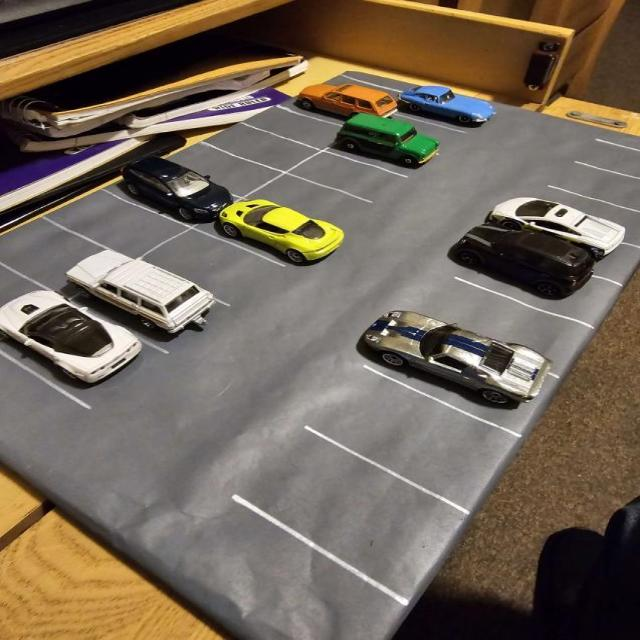Empty: (226, 425, 473, 609), (302, 363, 525, 518), (421, 276, 596, 380), (132, 225, 291, 307), (1, 214, 146, 302), (40, 188, 203, 262), (241, 171, 379, 231), (277, 147, 414, 207), (160, 139, 290, 199), (198, 122, 327, 175), (239, 105, 362, 154), (548, 160, 640, 214), (574, 137, 640, 183)
Taken: (365, 313, 559, 439), (62, 254, 236, 353), (453, 242, 625, 330), (481, 207, 639, 286), (188, 195, 337, 269), (100, 161, 250, 228), (315, 124, 443, 178), (276, 82, 403, 132), (383, 87, 496, 134)
